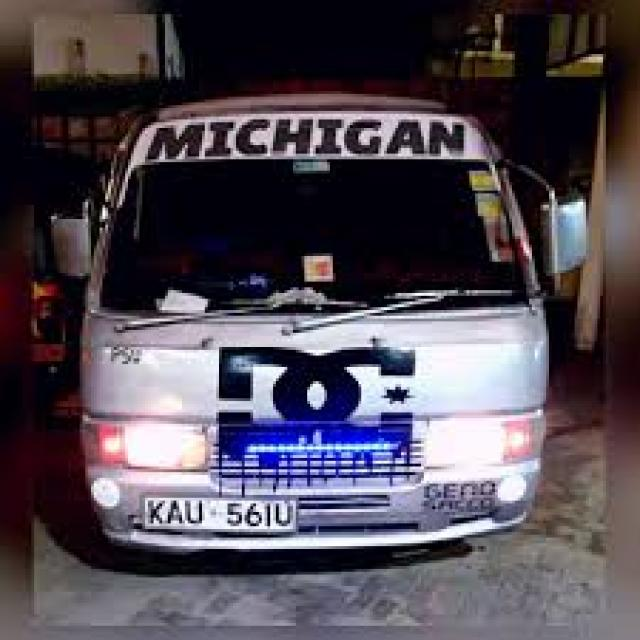matatu: (32, 35, 614, 577)
